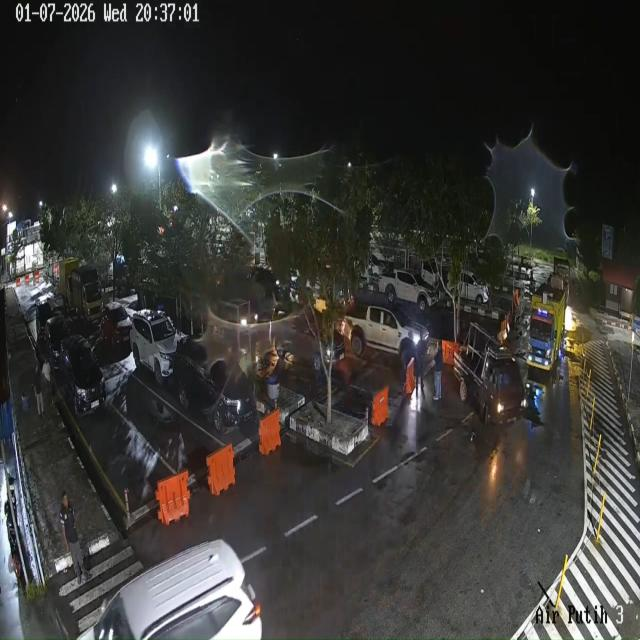Golongan IVA: (79, 540, 261, 639), (174, 339, 255, 433), (60, 335, 105, 415), (130, 309, 177, 385), (43, 315, 69, 369), (101, 302, 131, 346), (36, 301, 53, 342)
Golongan IVB: (343, 306, 428, 364), (379, 270, 438, 311)
Golongan VB: (527, 275, 566, 371), (70, 265, 102, 322)
